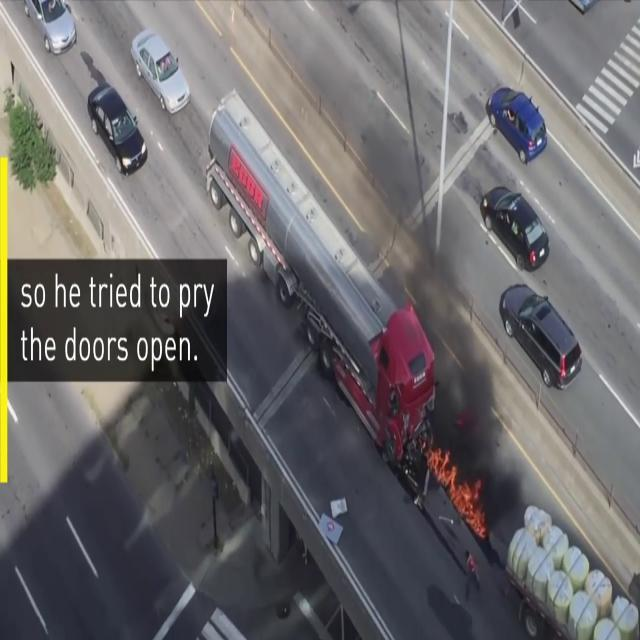Fire: (427, 442, 485, 540)
Smoke: (391, 126, 522, 526)
